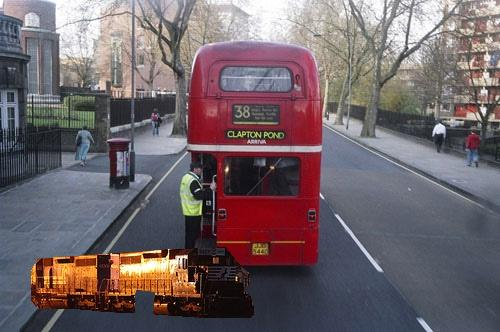tampered: (32, 248, 254, 318)
